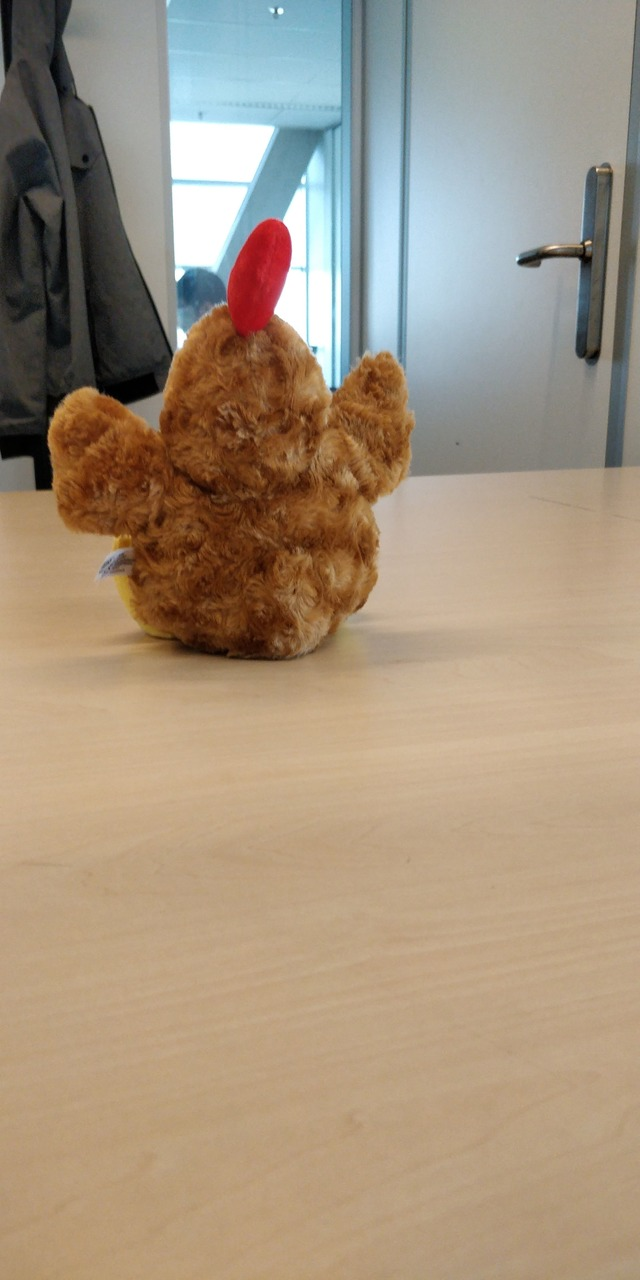fakeChicken: (47, 218, 416, 661)
